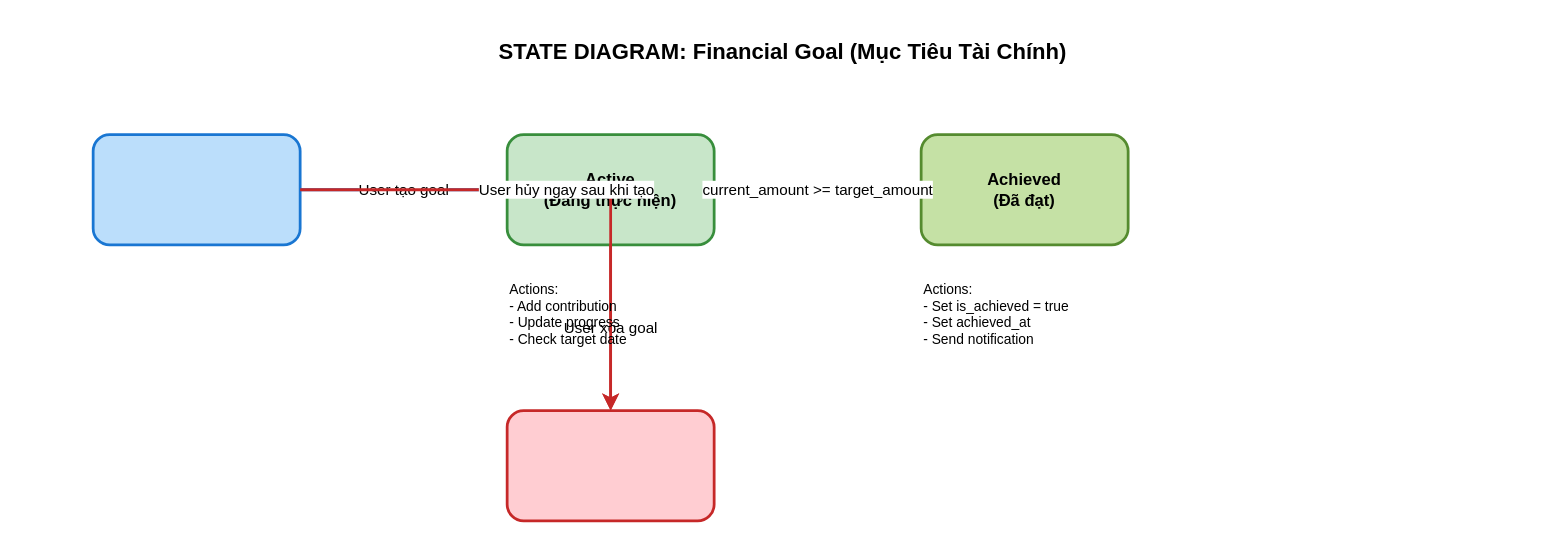
Image size: 1565x545. Some labels were removed from this diagram. Each missing label, with the centre of its shape:
"Cancelled (Đã hủy)" belongs at [610,465].
"Created (Đã tạo)" belongs at [196,189].
